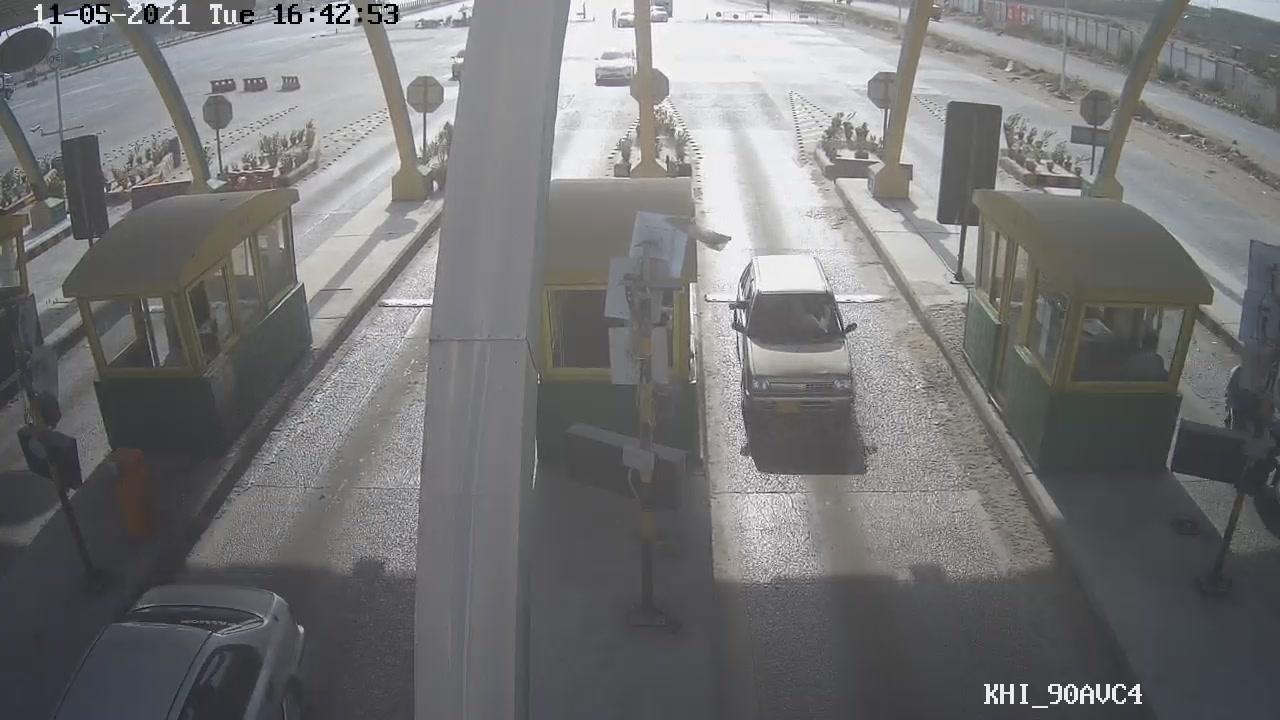F1: (721, 248, 870, 428)
